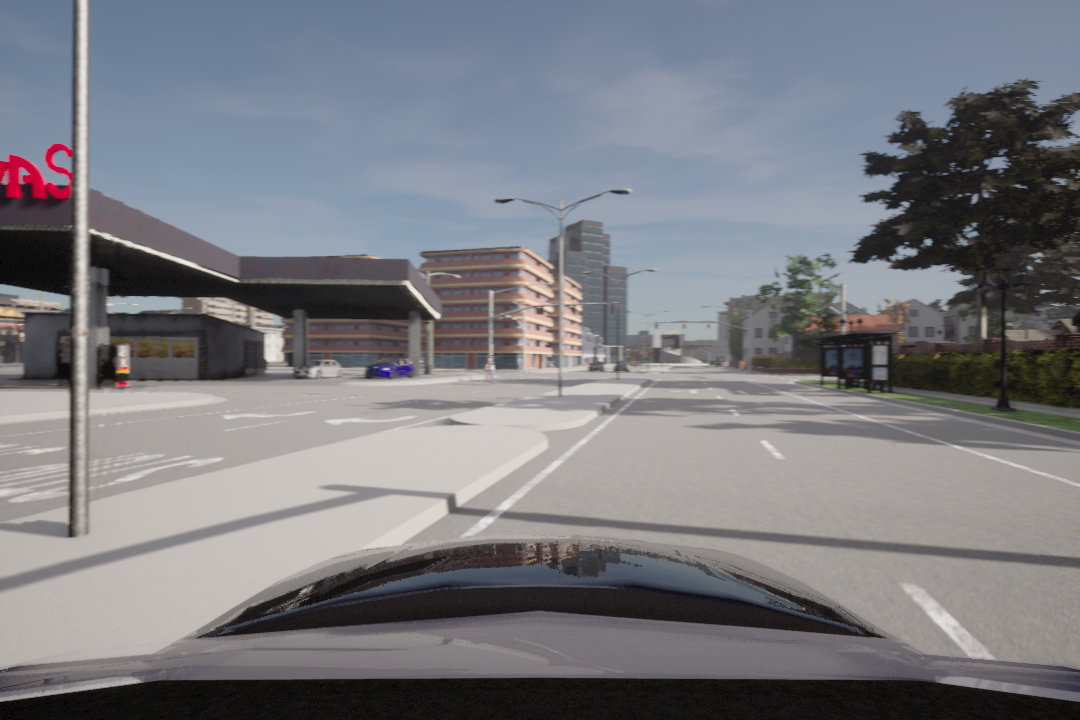RoadSign_right: (322, 411, 421, 427), (211, 407, 314, 421)
